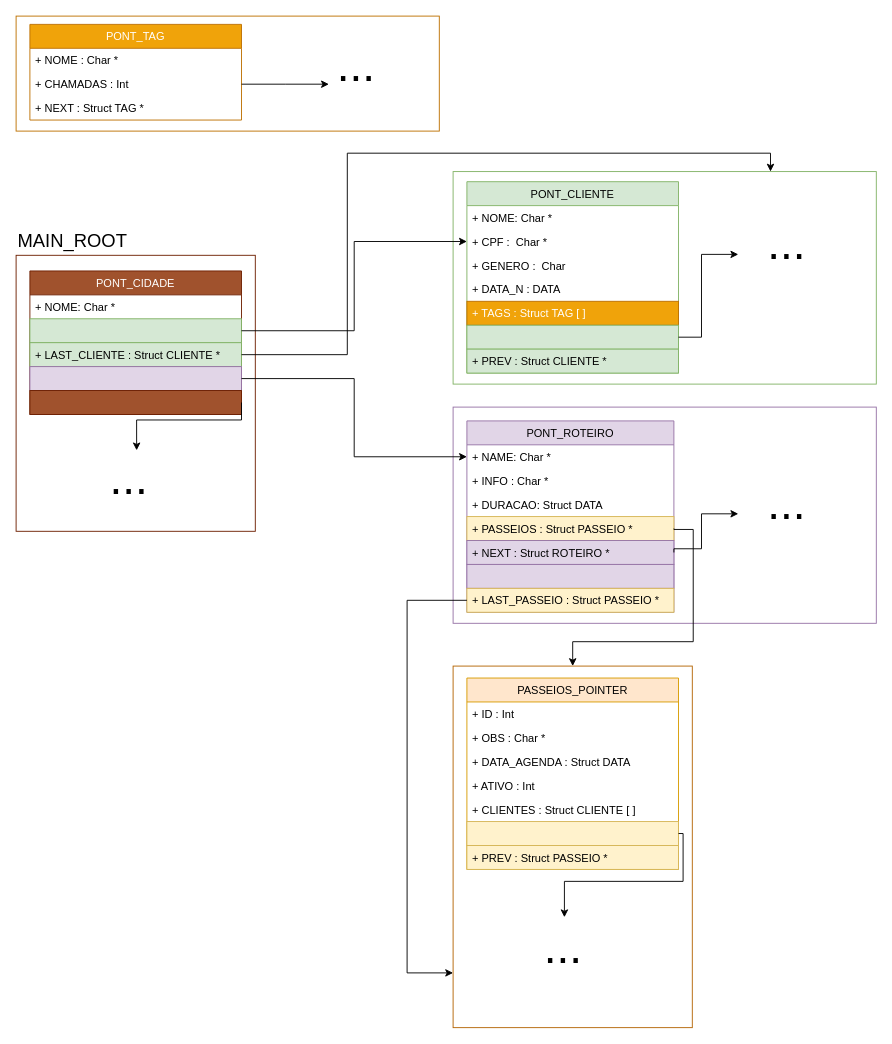
This 892x1044 diagram has some shape labels left out. The shapes that lost their labels are listed below. From the top down, each one's centre as x and y in pixels, then its label:
pixel 135 330: + CLIENTES : Struct CLIENTE *
pixel 572 336: + NEXT : Struct CLIENTE *
pixel 135 378: + ROTEIROS : Struct ROTEIRO*
pixel 135 402: + NEXT : Struct CIDADE
pixel 570 576: + PREV : Struct ROTEIRO
pixel 572 833: + NEXT : Struct PASSEIO *
